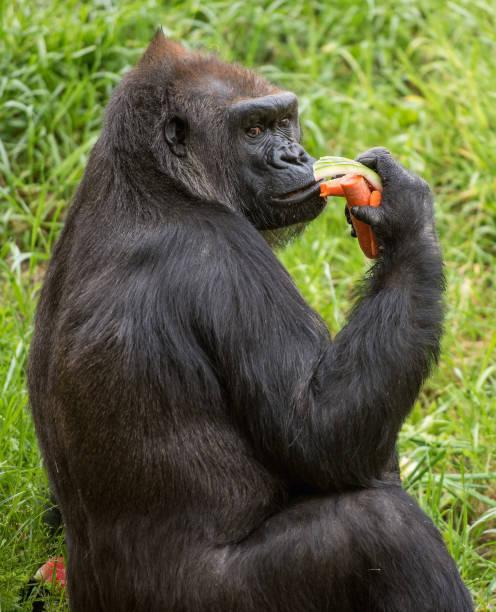gorille_Autres: (23, 19, 450, 612)
